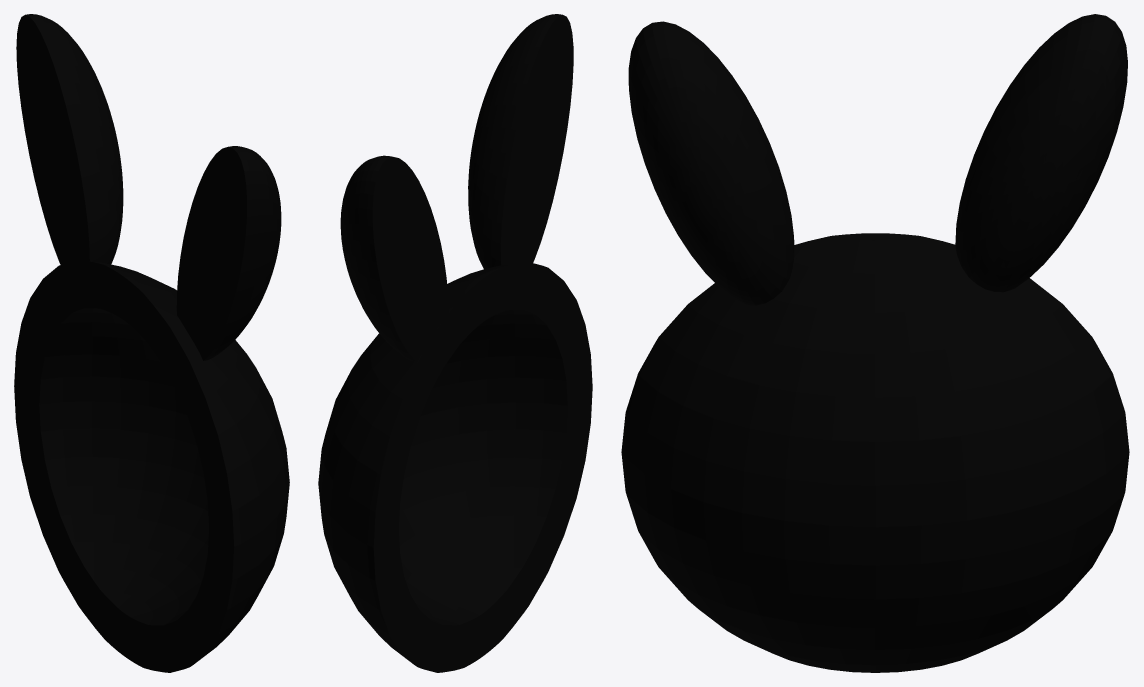
File: RabbitMask.fbx
The picture shows the model from 3 angles, left to right: view 1: azimuth 30°, elevation 25°; view 2: azimuth 150°, elevation 25°; view 3: azimuth 270°, elevation 25°; orthographic projection. The views are drawn at different scales.
Visible parts, largest first — view 1: node_id3; view 2: node_id3; view 3: node_id3.
Part boxes in pixels (left/top/right/bottom): node_id3: left=14, top=14, right=289, bottom=672; node_id3: left=318, top=14, right=592, bottom=672; node_id3: left=621, top=14, right=1129, bottom=672.
Bounding box in the file's own units: 0.1792 × 0.7329 × 0.512.
1 material, 1 textured.
